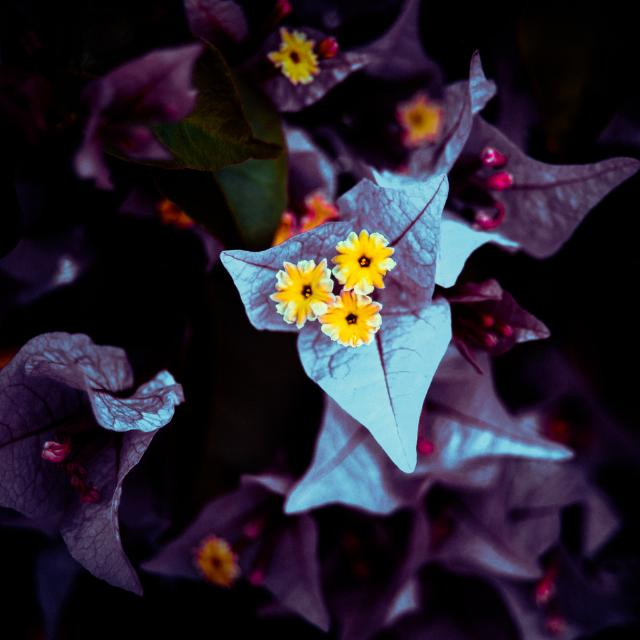Flower: (277, 0, 639, 284), (220, 172, 454, 476), (283, 284, 581, 518), (342, 414, 628, 634), (0, 328, 190, 600), (76, 46, 220, 268), (145, 478, 327, 632), (186, 0, 248, 100), (268, 258, 334, 332), (334, 230, 398, 298), (322, 290, 382, 350), (268, 30, 322, 86), (401, 92, 445, 150), (201, 535, 245, 591)
